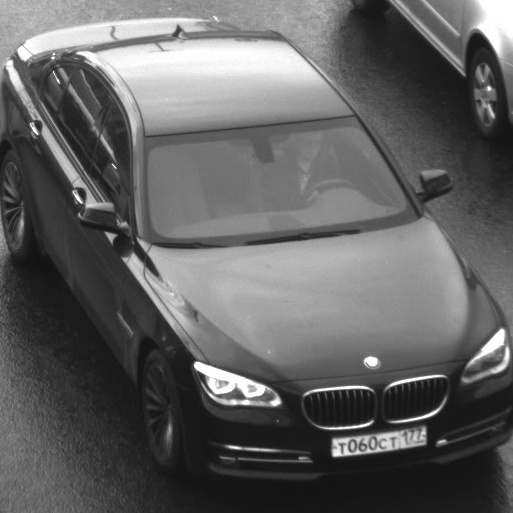plate: (322, 413, 437, 463)
